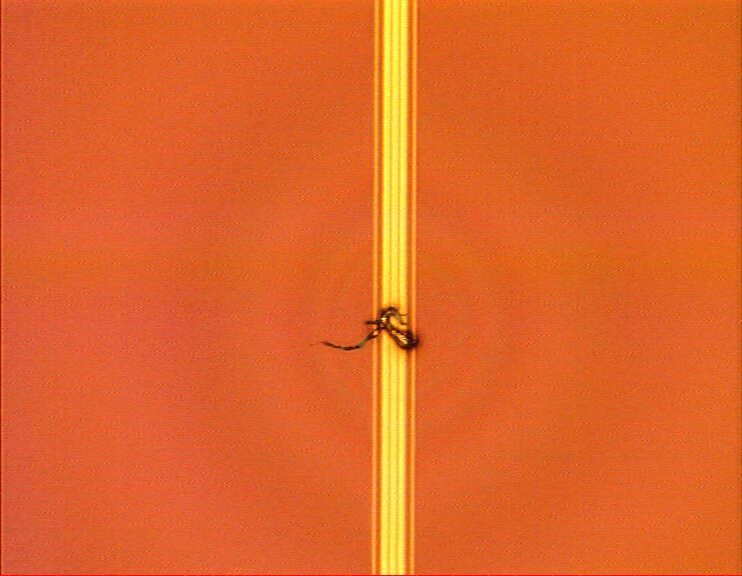PIQ PARTICLE: (292, 302, 422, 363)
